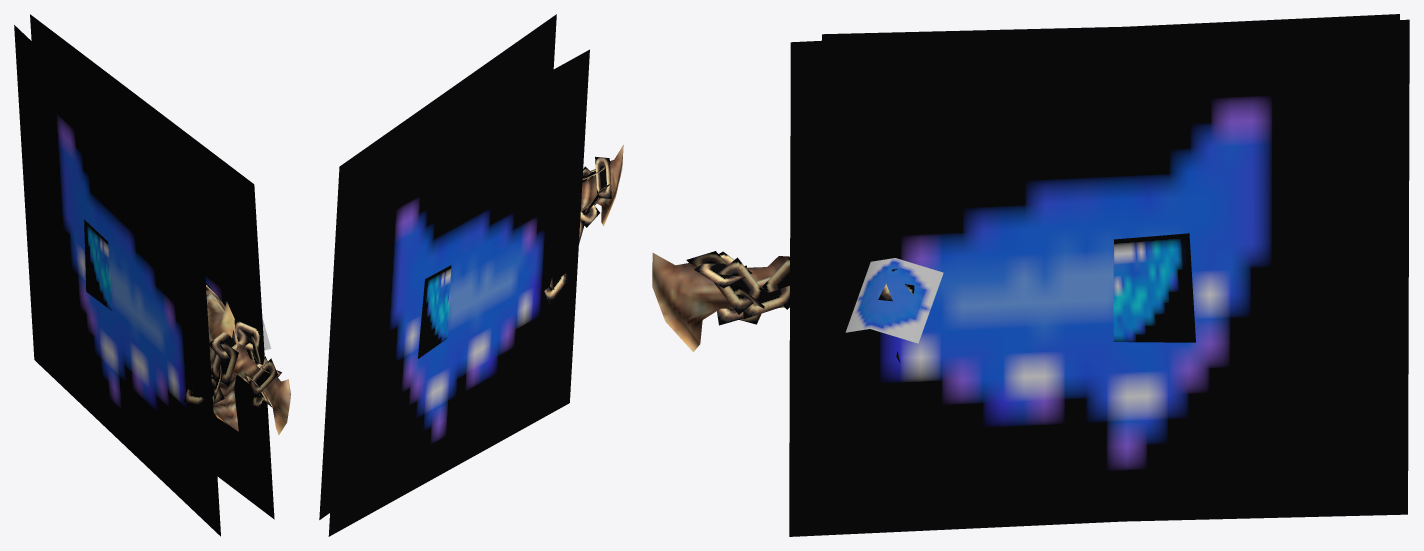
File: Ultimate.obj
3 renders of one model, left to right at view 1: azimuth 30°, elevation 25°; view 2: azimuth 150°, elevation 25°; view 3: azimuth 270°, elevation 25°, orthographic. The views are drawn at different scales.
Parts seen in each view (by area): view 1: mesh_23_mesh_23.001; view 2: mesh_23_mesh_23.001; view 3: mesh_23_mesh_23.001.
Boxes of the visible parts, x1,y1,x2,y2 form: mesh_23_mesh_23.001: (14,14,290,536); mesh_23_mesh_23.001: (319,14,623,536); mesh_23_mesh_23.001: (652,14,1409,536).
Size of the model in its own units: 0.2088 by 0.9391 by 1.23.
1 material, 1 textured.
